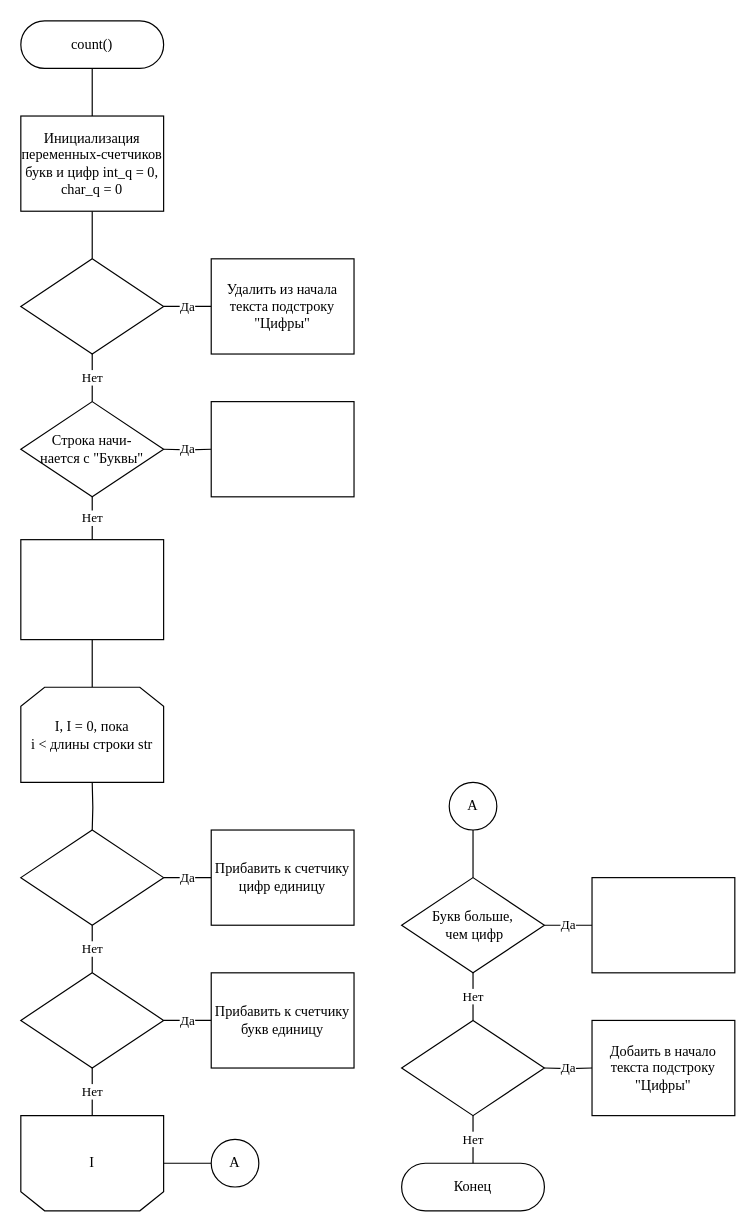
This 756x1232 diagram has some shape labels left out. The centre of each missing label's shape, as x and y in pixels:
Добаить в начало текста подстроку "Буквы": (663,924)
Инициализация строковой переменной str = this->text->Text: (92,589)
Символ строки - буква: (92,1020)
Символ строки - цифра: (92,877)
Строка начи- нается с "Цифры": (92,306)
Удалить из начала текста подстроку "Буквы": (282,448)
Цифр больше, чем букв: (472,1067)
